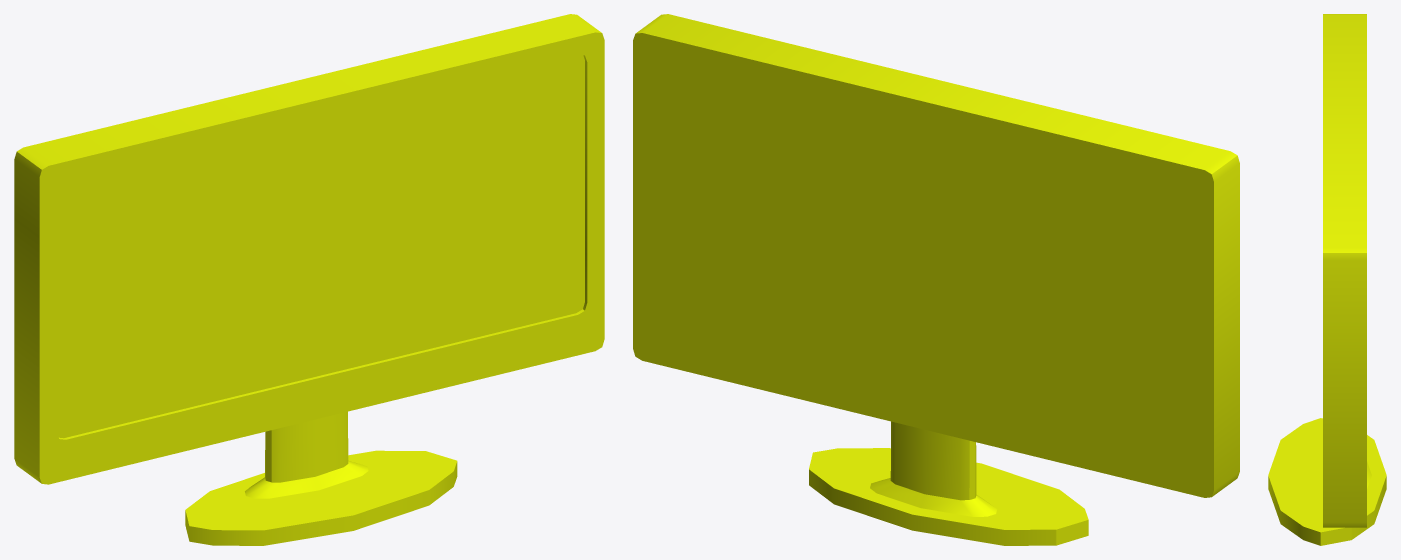
The picture shows the model from 3 angles, left to right: view 1: azimuth 30°, elevation 25°; view 2: azimuth 150°, elevation 25°; view 3: azimuth 270°, elevation 25°; orthographic projection. The views are drawn at different scales.
Parts seen in each view (by area): view 1: TV_1; view 2: TV_1; view 3: TV_1.
Boxes of the visible parts, <box> form: TV_1: <box>14,14,604,545</box>; TV_1: <box>633,14,1239,545</box>; TV_1: <box>1268,14,1386,545</box>.
Bounding box in the file's own units: 1.54 × 1.06 × 0.32.
